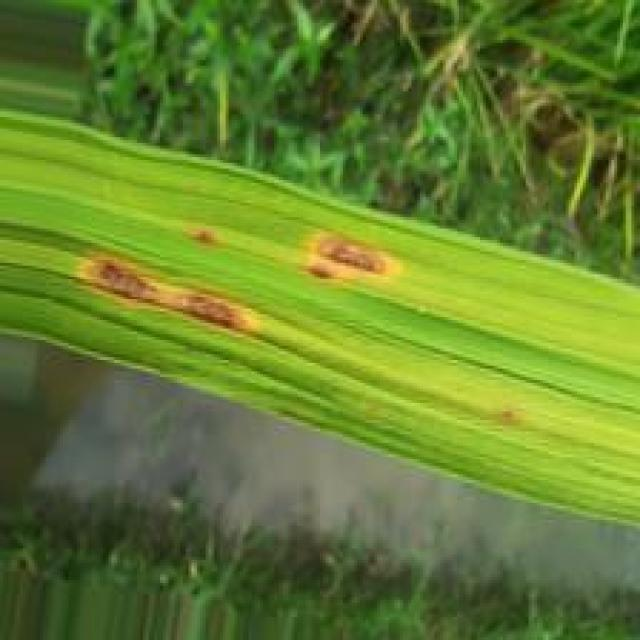Narrow_Brown_Leaf_Spot: (64, 241, 267, 341), (280, 223, 414, 299), (175, 221, 227, 254)
